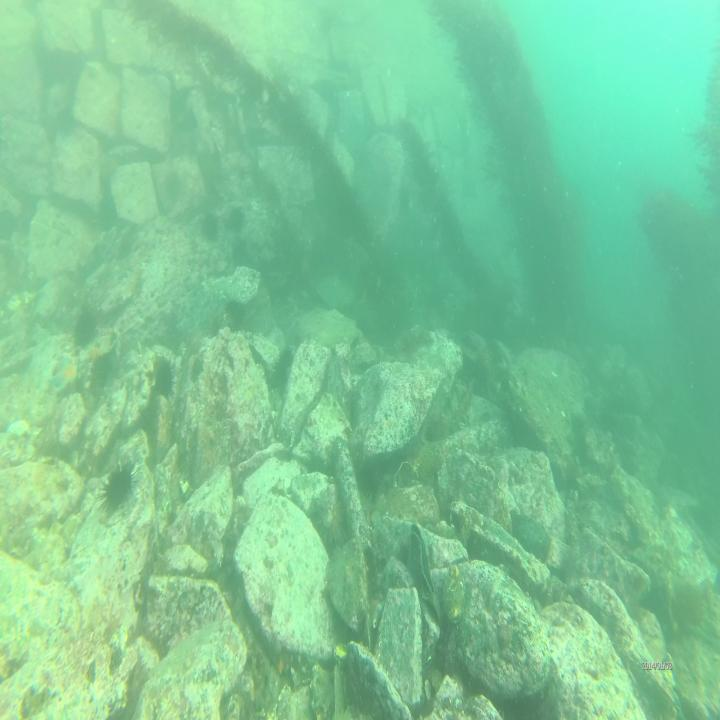echinus: (99, 468, 136, 512), (316, 492, 344, 546), (71, 310, 100, 351), (153, 354, 176, 402), (201, 208, 221, 243), (228, 200, 244, 239)
